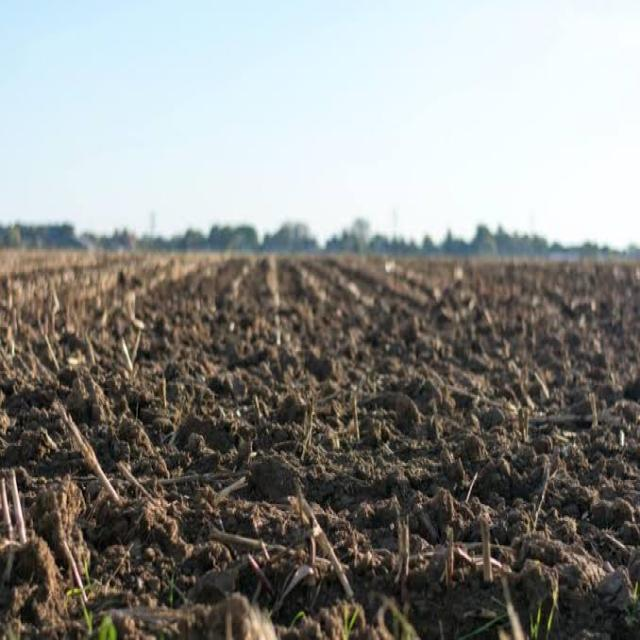suelo_humedo: (66, 267, 600, 593)
